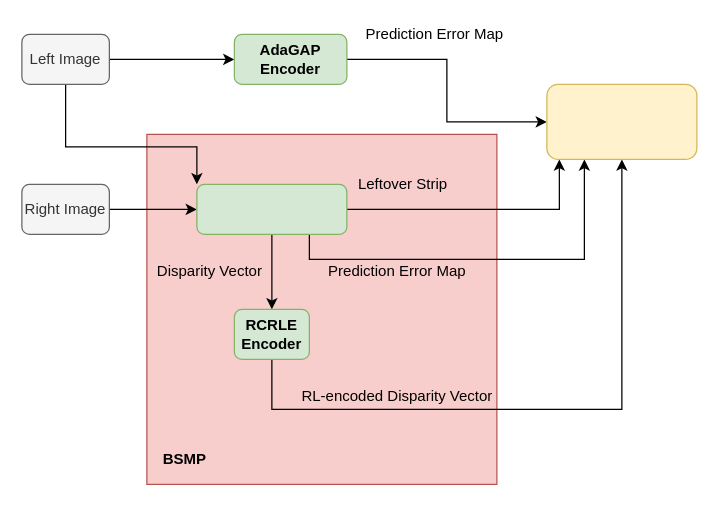
The diagram is 719 pixels wide and 506 high, and some of its shapes have lost their labels. The shapes that lost their labels are listed below. From the top down, each one's centre as x and y in pixels, then its label:
[621,121]: DECODER
[271,208]: Block Stereo Matching
